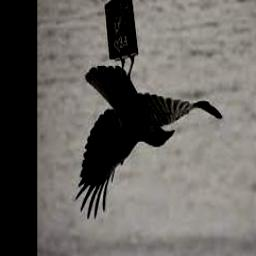Crow: (74, 56, 223, 221)
